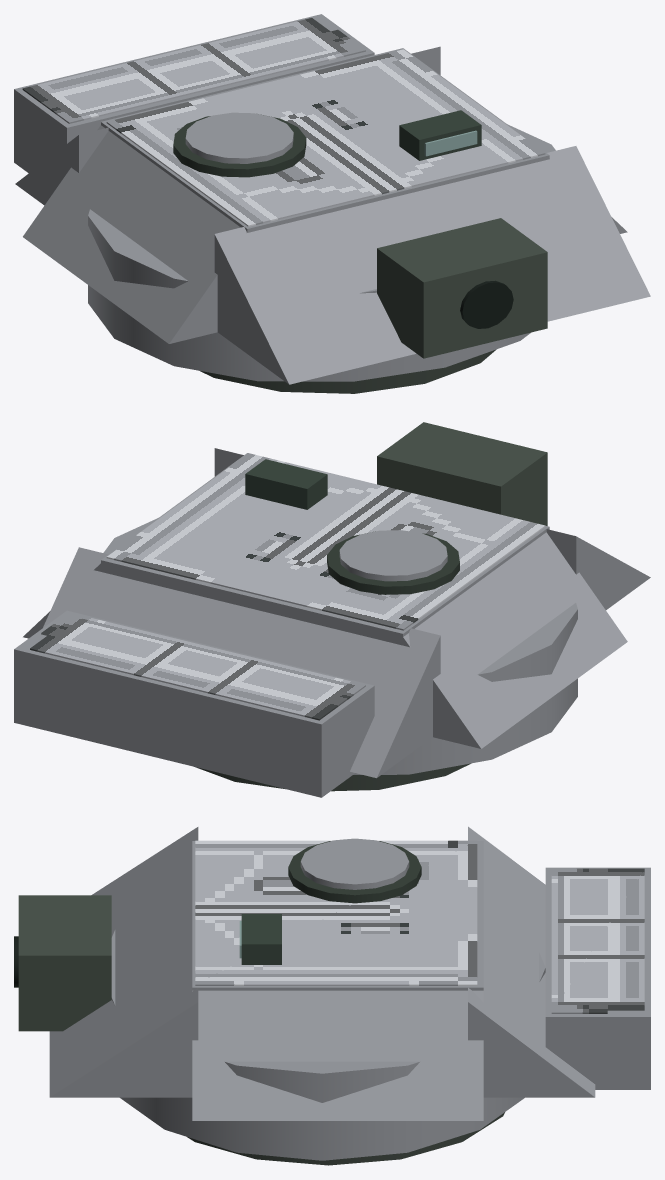
Rendered from CMU3DReduxVehicleTankTurretPMCMounted.glb.
The picture shows the model from 3 angles, top to bottom: view 1: azimuth 30°, elevation 25°; view 2: azimuth 150°, elevation 25°; view 3: azimuth 270°, elevation 25°; orthographic projection.
Parts seen in each view (by area): view 1: sloped turret front, turret roof finish, left turret cheek, mantlet housing, bustle finish, turret lower casting, rear turret bustle, commander hatch, turret roof, sloped turret rear, rotating turret bearing, commander hatch rim (+3 smaller); view 2: turret roof finish, rear turret bustle, sloped turret rear, left turret cheek, bustle finish, mantlet housing, turret lower casting, turret roof, commander hatch, sloped turret front, periscope, commander hatch rim (+1 smaller); view 3: right turret cheek, turret roof finish, sloped turret front, sloped turret rear, turret lower casting, bustle finish, mantlet housing, rear turret bustle, commander hatch, turret roof, commander hatch rim, periscope (+1 smaller).
Boxes of the visible parts, x1,y1,x2,y2 form: sloped turret front: (214, 146, 650, 384); turret roof finish: (106, 49, 545, 226); left turret cheek: (23, 125, 249, 343); mantlet housing: (377, 218, 547, 358); bustle finish: (22, 18, 365, 123); turret lower casting: (88, 124, 555, 381); rear turret bustle: (14, 14, 374, 173); commander hatch: (185, 112, 293, 163); turret roof: (101, 48, 549, 232); sloped turret rear: (15, 46, 440, 205); rotating turret bearing: (200, 349, 496, 393); commander hatch rim: (173, 114, 306, 177); turret roof finish: (106, 453, 545, 630); rear turret bustle: (14, 610, 374, 797); sloped turret rear: (43, 547, 440, 778); left turret cheek: (403, 532, 627, 748); bustle finish: (30, 612, 365, 720); mantlet housing: (377, 422, 547, 525); turret lower casting: (103, 518, 577, 774); turret roof: (101, 453, 549, 645); commander hatch: (339, 530, 447, 581); sloped turret front: (214, 448, 650, 609); periscope: (245, 459, 327, 509); commander hatch rim: (327, 531, 459, 594); right turret cheek: (192, 990, 483, 1120); turret roof finish: (195, 840, 477, 985); sloped turret front: (49, 827, 198, 1097); sloped turret rear: (468, 826, 595, 1097); turret lower casting: (111, 930, 545, 1160); bustle finish: (551, 868, 644, 1013); mantlet housing: (18, 895, 111, 1031); rear turret bustle: (545, 867, 650, 1089); commander hatch: (300, 838, 409, 889); turret roof: (192, 841, 483, 990); commander hatch rim: (288, 841, 421, 903); periscope: (241, 914, 281, 964).
Size of the model in its own units: 1.7 by 0.69 by 2.05.
Materials: 9 (2 with a texture image).
